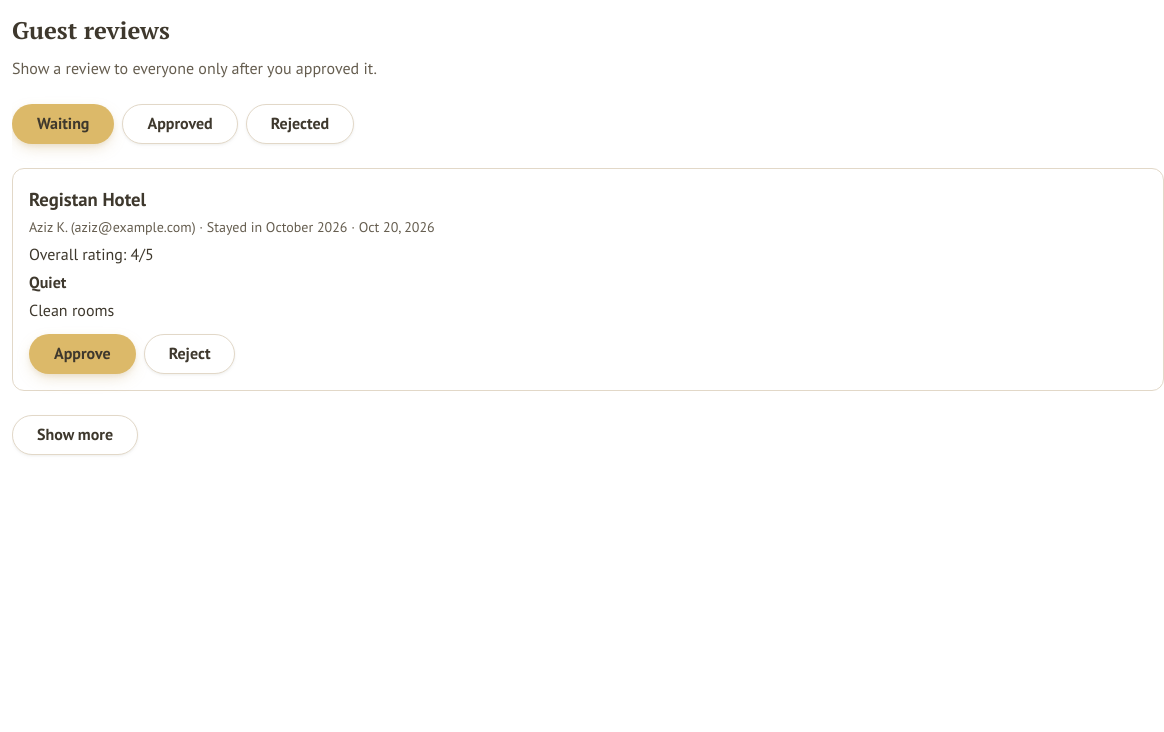
Test: AdminReviewModeration › loads the next page on "Show more"
Click the button "Show more" at (75, 435), box x1=12 y1=415 x2=138 y2=455
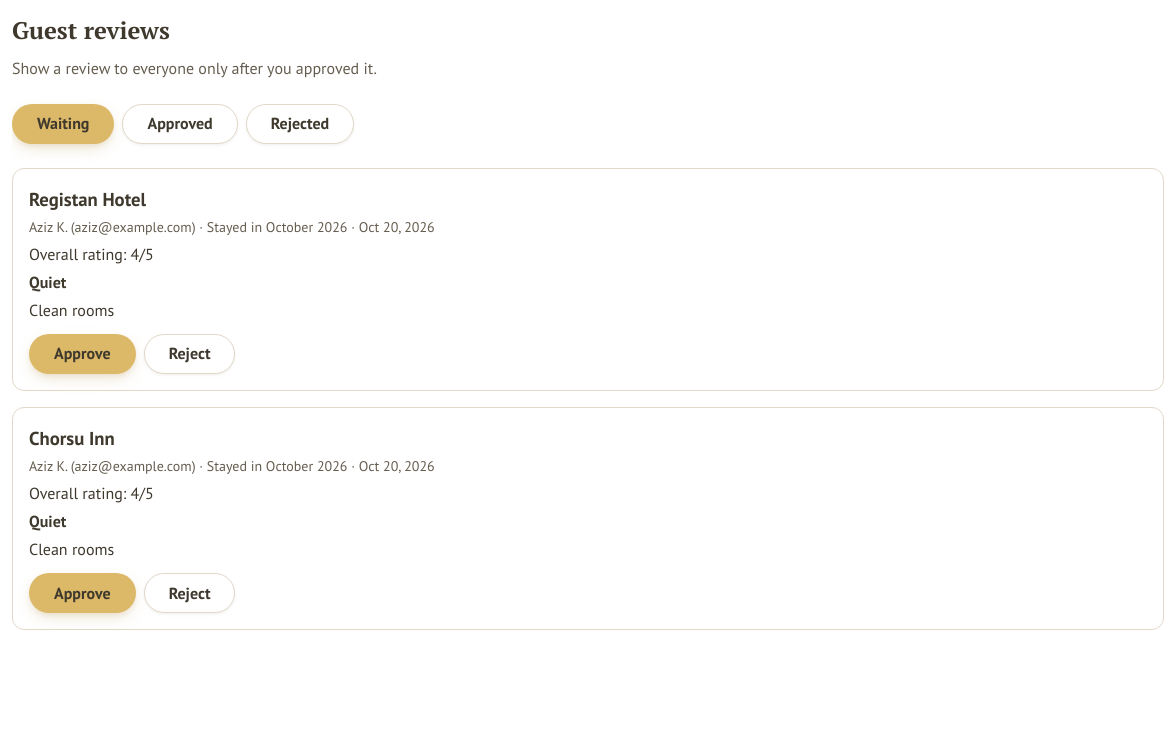
Now the heading "Chorsu Inn" is shown, box x1=29 y1=426 x2=115 y2=450
